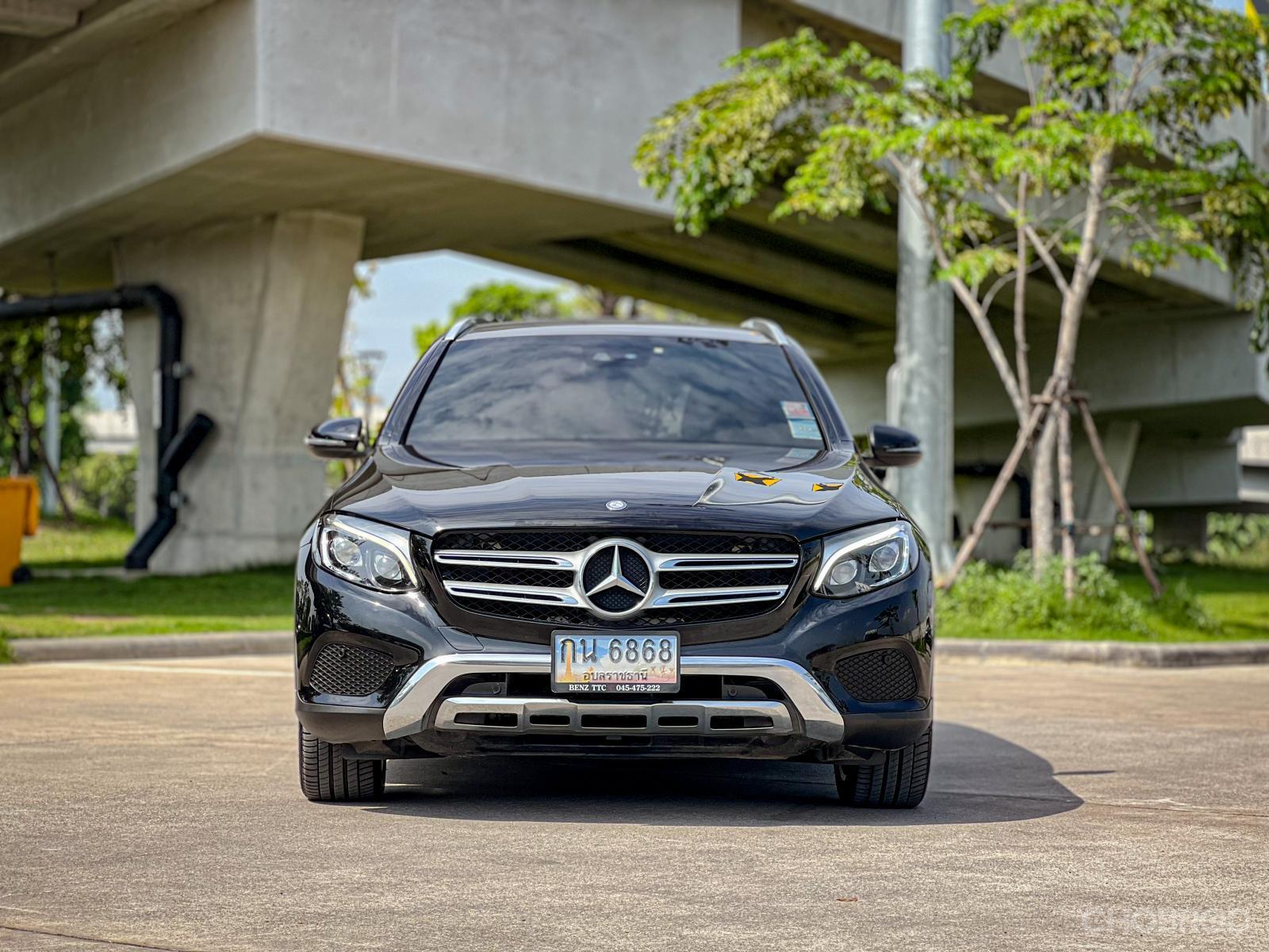license-plate: (551, 629, 685, 696)
